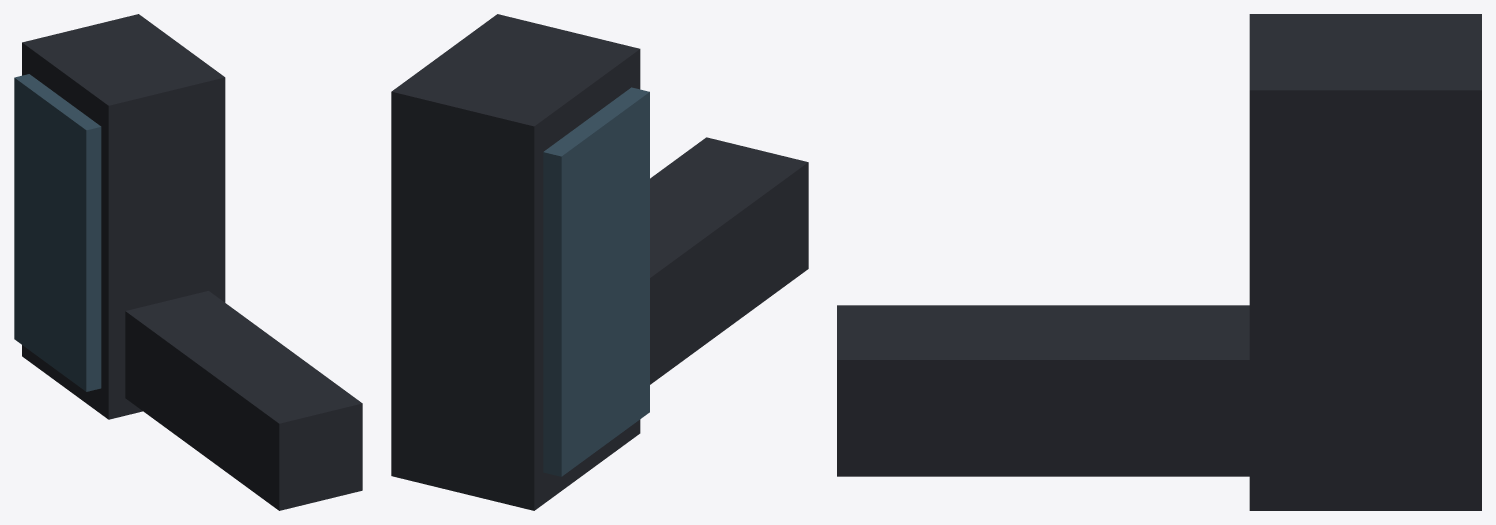
File: mirror_l.obj
The picture shows the model from 3 angles, left to right: view 1: azimuth 30°, elevation 25°; view 2: azimuth 150°, elevation 25°; view 3: azimuth 270°, elevation 25°; orthographic projection. The views are drawn at different scales.
Parts seen in each view (by area): view 1: Cube; view 2: Cube; view 3: Cube.
Boxes of the visible parts, left/top/right/bottom form: Cube: left=14, top=14, right=362, bottom=510; Cube: left=391, top=14, right=808, bottom=510; Cube: left=837, top=14, right=1481, bottom=510.
Bounding box in the file's own units: 0.079 × 0.18 × 0.25.
